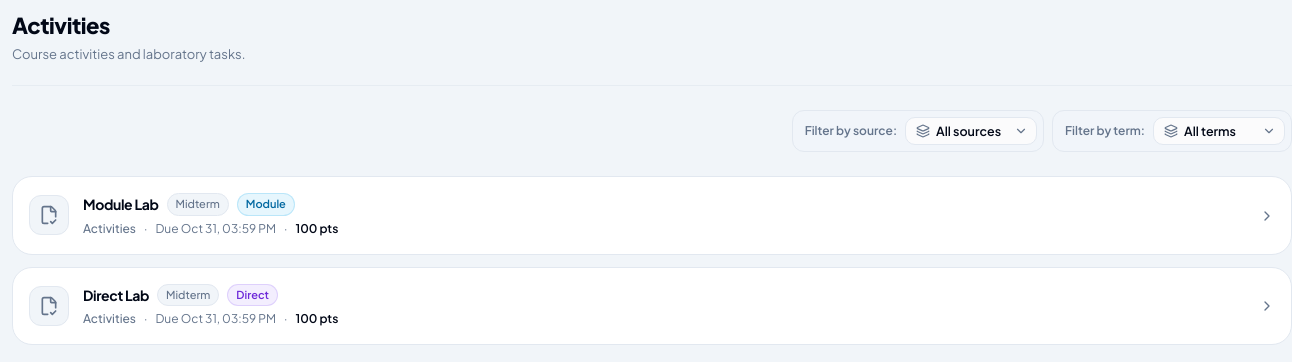
Test: Source filter RED › filters module vs direct activities
Expected: the heading "Direct Lab" is shown, top-left (83, 285), bottom-right (149, 306)
Expected: the heading "Module Lab" is shown, top-left (83, 194), bottom-right (159, 215)
Click the button with aria-label "filter by source" at (971, 131), box top-left (905, 117), bottom-right (1037, 145)
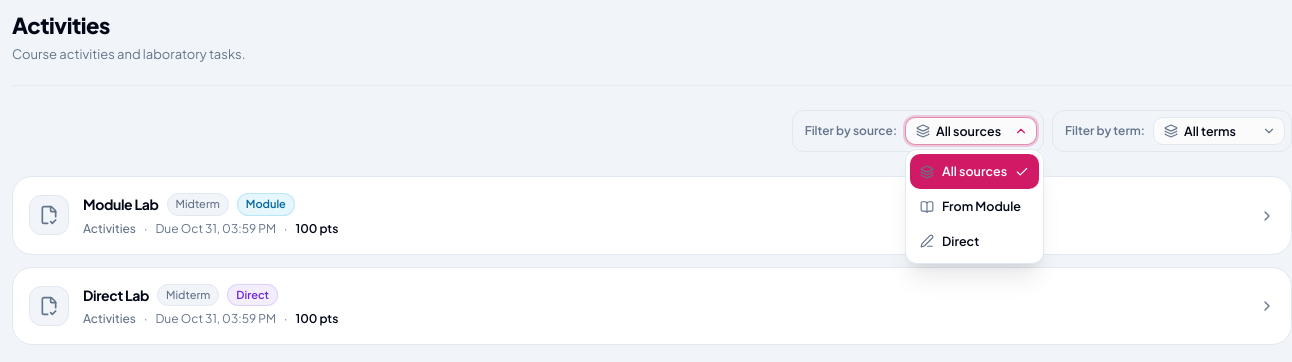
Click the option "From Module" at (975, 206), box top-left (910, 189), bottom-right (1039, 224)
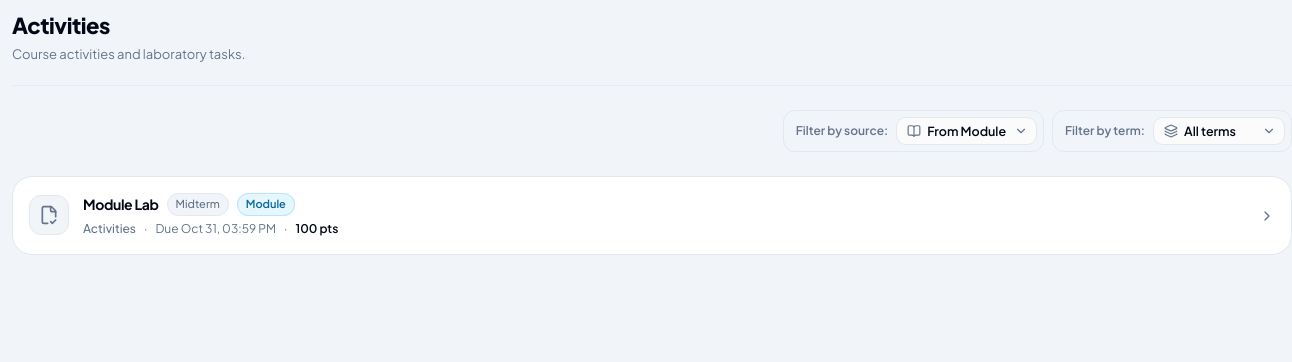
Expected: the heading "Module Lab" is shown, top-left (83, 194), bottom-right (159, 215)
Now the heading "Direct Lab" is gone
